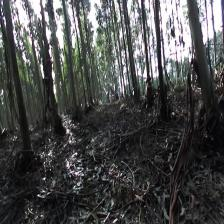trunk: (4, 7, 32, 151), (187, 5, 216, 111), (42, 30, 61, 125), (63, 7, 78, 112), (154, 4, 168, 101), (141, 4, 151, 83)
